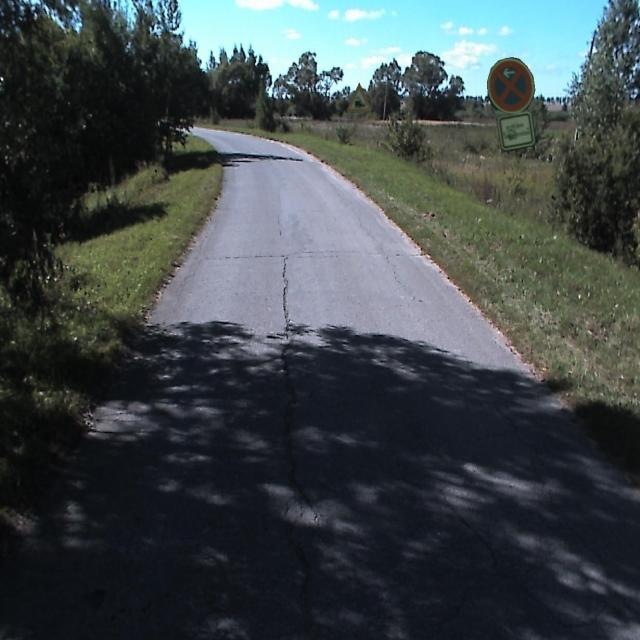road: (0, 126, 639, 639)
